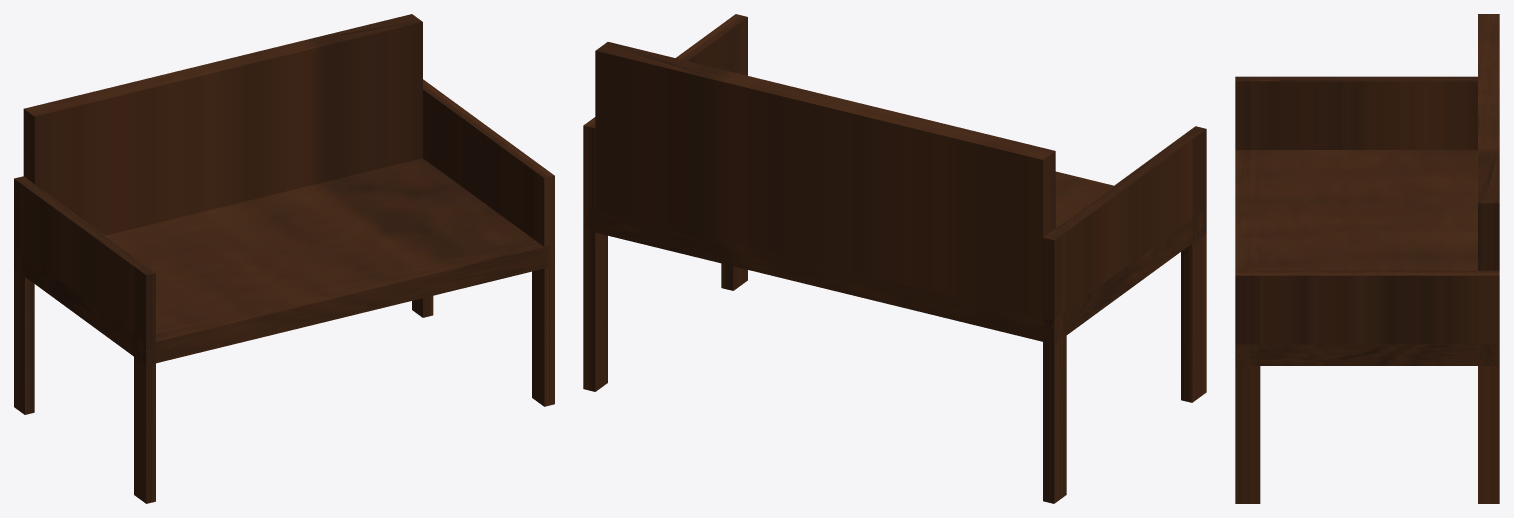
Rendered from Bench.obj.
3 renders of one model, left to right at view 1: azimuth 30°, elevation 25°; view 2: azimuth 150°, elevation 25°; view 3: azimuth 270°, elevation 25°, orthographic. The views are drawn at different scales.
Visible parts, largest first — view 1: pCube1; view 2: pCube1; view 3: pCube1.
Part boxes in pixels (x1,y1,x2,y2): pCube1: (14,14,554,503); pCube1: (583,14,1206,503); pCube1: (1235,14,1499,503).
Size of the model in its own units: 7.3 by 5.06 by 4.09.
